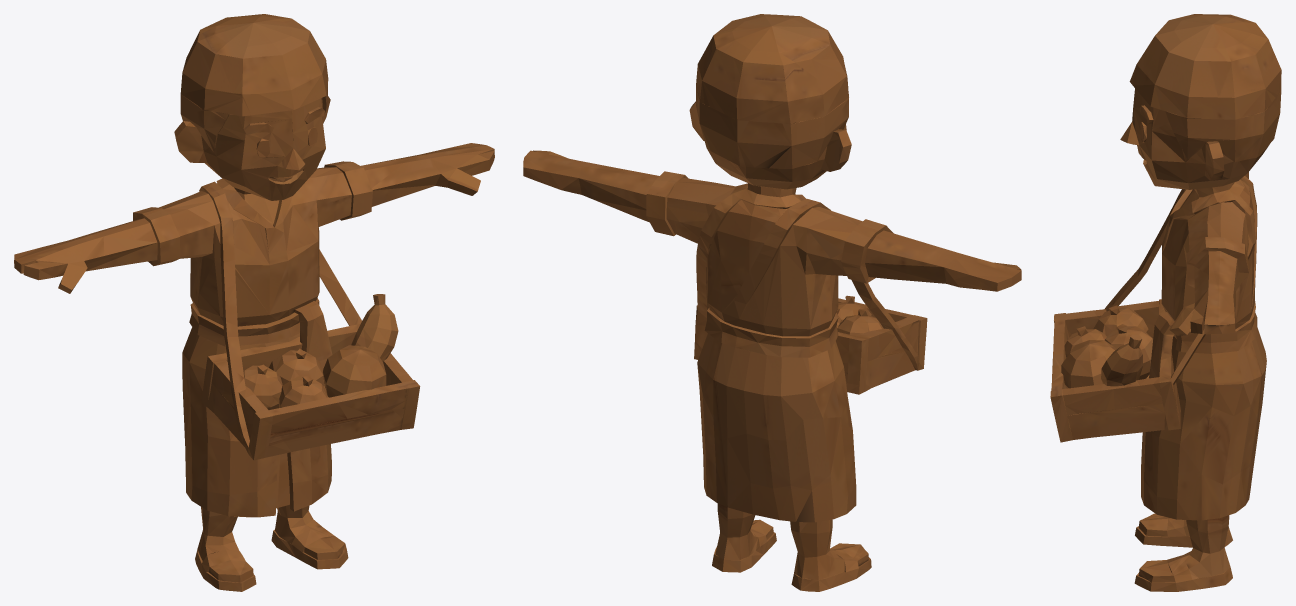
3 renders of one model, left to right at view 1: azimuth 30°, elevation 25°; view 2: azimuth 150°, elevation 25°; view 3: azimuth 270°, elevation 25°, orthographic. The views are drawn at different scales.
Parts seen in each view (by area): view 1: texture_pbr_v128; view 2: texture_pbr_v128; view 3: texture_pbr_v128.
Boxes of the visible parts, box(x1,y1,x2,y2) form: texture_pbr_v128: box(14, 14, 494, 591); texture_pbr_v128: box(523, 14, 1021, 591); texture_pbr_v128: box(1050, 14, 1281, 591).
Bounding box in the file's own units: 1.08 × 1.16 × 0.4513.
